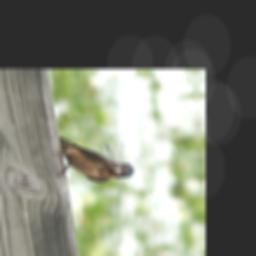Swallow: (48, 134, 135, 184)
